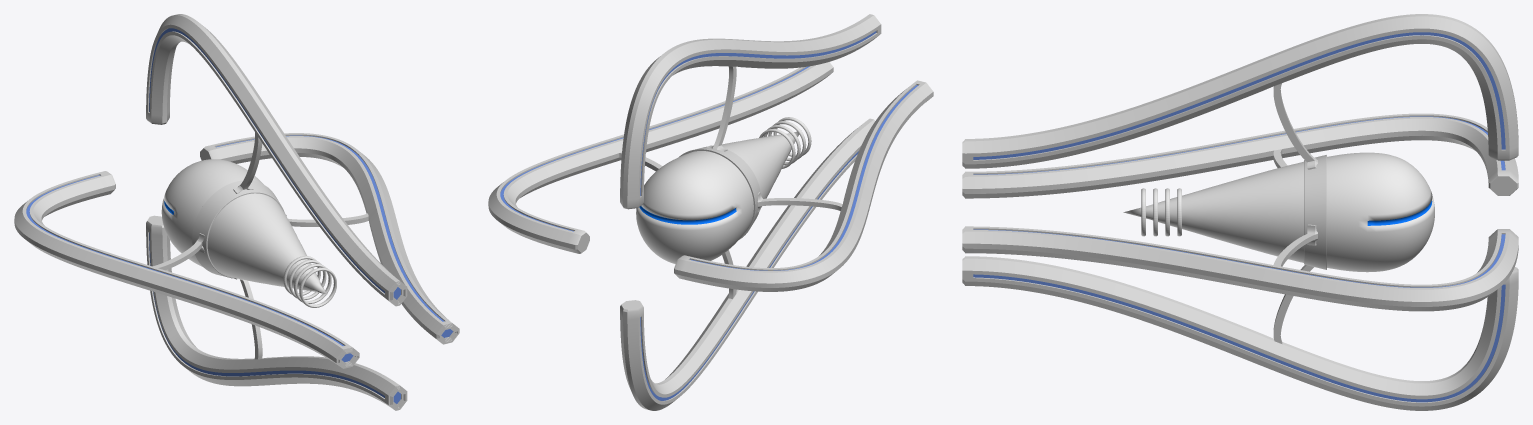
File: warp-ship.fbx
The picture shows the model from 3 angles, left to right: view 1: azimuth 30°, elevation 25°; view 2: azimuth 150°, elevation 25°; view 3: azimuth 270°, elevation 25°; orthographic projection. The views are drawn at different scales.
Parts seen in each view (by area): view 1: Warp.Arms, Warp.Core; view 2: Warp.Arms, Warp.Core; view 3: Warp.Arms, Warp.Core.
Part boxes in pixels (x1,y1,x2,y2): Warp.Arms: (14,14,459,410); Warp.Core: (161,159,336,307); Warp.Arms: (488,14,933,410); Warp.Core: (636,117,811,263); Warp.Arms: (962,14,1518,410); Warp.Core: (1123,152,1434,272).
Bounding box in the file's own units: 728 × 728 × 930.
